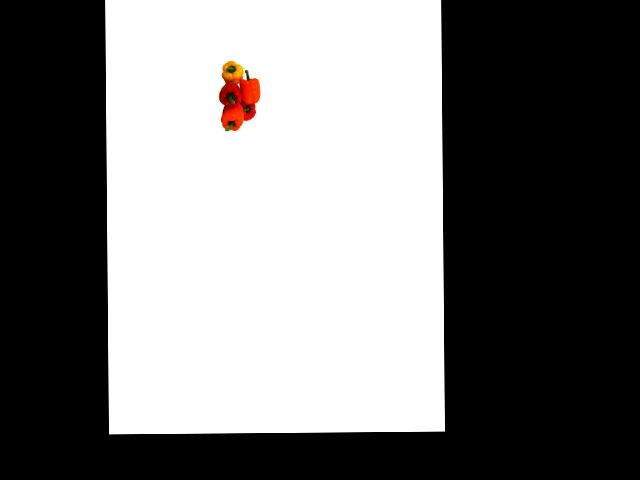bell_pepper: (218, 102, 246, 137)
